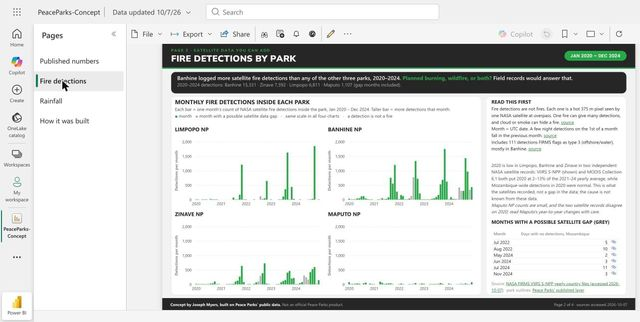

Layout of this report page (visuals, bound fields, positions):
{"tool":"powerbi","page":{"name":"Fire detections","canvas":[1280,720],"ordinal":1},"visuals":[{"type":"textbox","box":[36,79,1208,52],"z":2001},{"type":"textbox","box":[32,146,824,70],"z":2002},{"type":"clusteredColumnChart","title":"LIMPOPO NP","fields":{"Category":["P2_Fires10.MonthDate"],"Y":["P2_Fires10.Fire Detections"]},"box":[32,218,410,226],"z":2003},{"type":"clusteredColumnChart","title":"BANHINE NP","fields":{"Category":["P2_Fires10.MonthDate"],"Y":["P2_Fires10.Fire Detections"]},"box":[446,218,410,226],"z":2004},{"type":"clusteredColumnChart","title":"ZINAVE NP","fields":{"Category":["P2_Fires10.MonthDate"],"Y":["P2_Fires10.Fire Detections"]},"box":[32,448,410,226],"z":2005},{"type":"clusteredColumnChart","title":"MAPUTO NP","fields":{"Category":["P2_Fires10.MonthDate"],"Y":["P2_Fires10.Fire Detections"]},"box":[446,448,410,226],"z":2006},{"type":"textbox","box":[884,146,364,170],"z":2007},{"type":"textbox","box":[884,318,364,150],"z":2008},{"type":"tableEx","title":"MONTHS WITH A POSSIBLE SATELLITE GAP (GREY)","fields":{"Values":["P2_FireGapMonths11.MonthLabel","P2_FireGapMonths11.GapDays","P2_FireGapMonths11.Source","P2_FireGapMonths11.MonthDate"]},"box":[884,470,364,166],"z":2009},{"type":"textbox","box":[884,638,364,39],"z":2010},{"type":"textbox","box":[0,688,860,32],"z":2900},{"type":"textbox","box":[860,688,420,32],"z":2901}]}

Visuals, with their boxes on the page's 1280x720 design canvas (x1, y1, x2, y2). These are canvas units, not pixel positions in the 640x322 screenshot, which may show the page scaled, cropped or inside an application window:
textbox: 36:79:1244:131
textbox: 32:146:856:216
"LIMPOPO NP" clusteredColumnChart: 32:218:442:444
"BANHINE NP" clusteredColumnChart: 446:218:856:444
"ZINAVE NP" clusteredColumnChart: 32:448:442:674
"MAPUTO NP" clusteredColumnChart: 446:448:856:674
textbox: 884:146:1248:316
textbox: 884:318:1248:468
"MONTHS WITH A POSSIBLE SATELLITE GAP (GREY)" tableEx: 884:470:1248:636
textbox: 884:638:1248:677
textbox: 0:688:860:720
textbox: 860:688:1280:720
